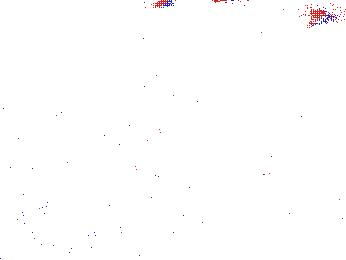X-ray fish: (263, 105, 293, 135)
red belly glassfish: (249, 164, 284, 178)
redtail glassfish: (306, 1, 346, 29)
